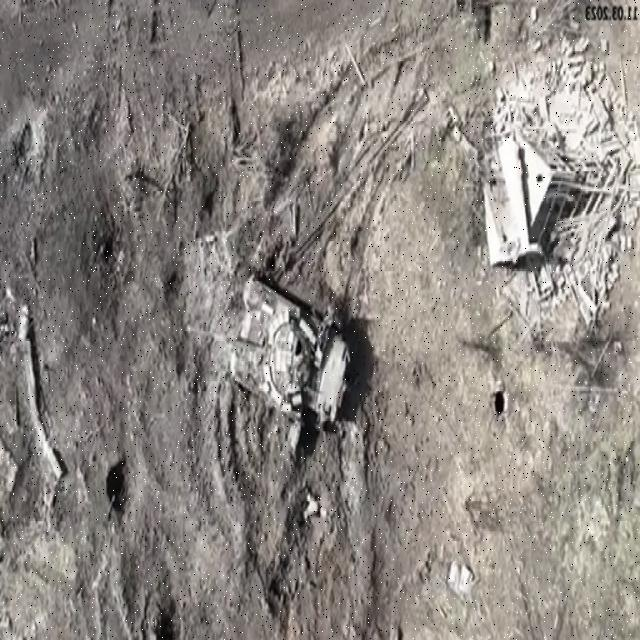TANK: (184, 267, 352, 451)
